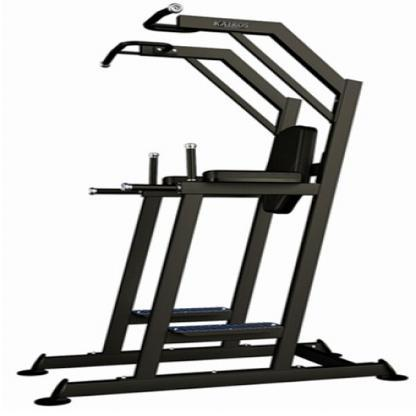chinning dipping: (21, 4, 409, 406)
